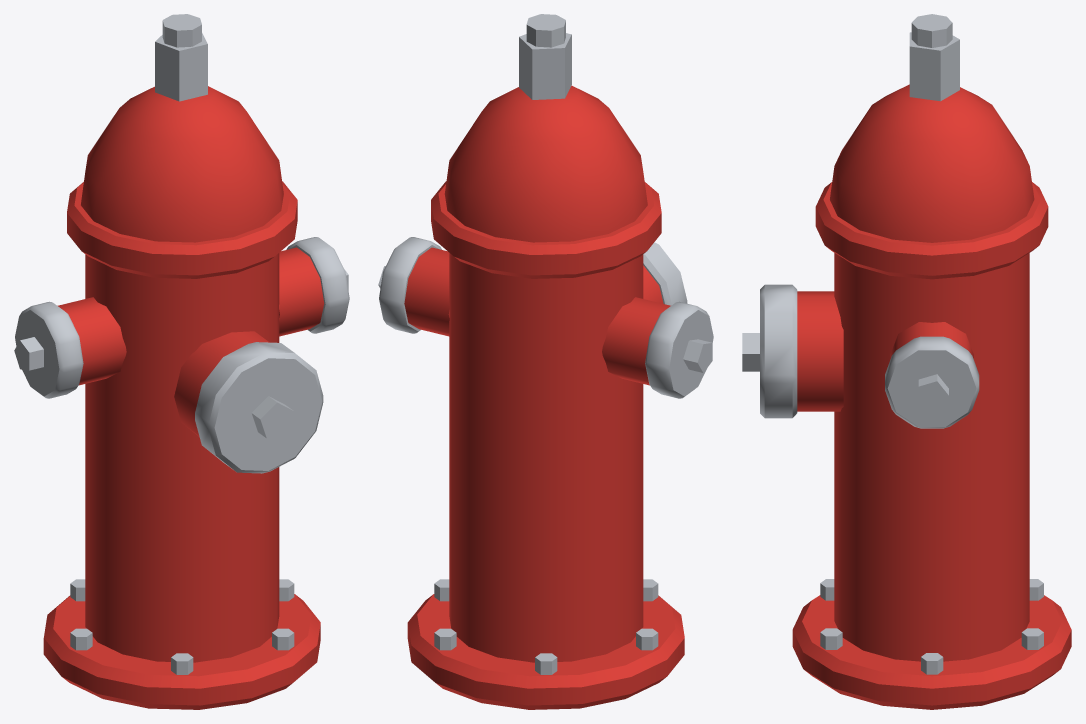
Rendered from fire_hydrant.glb.
The picture shows the model from 3 angles, left to right: view 1: azimuth 30°, elevation 25°; view 2: azimuth 150°, elevation 25°; view 3: azimuth 270°, elevation 25°; orthographic projection.
Parts seen in each view (by area): view 1: body; view 2: body; view 3: body.
Part boxes in pixels (box(x1,y1,x2,y2)): body: box(14, 14, 349, 709); body: box(378, 14, 713, 709); body: box(742, 14, 1071, 709).
Bounding box in the file's own units: 39.6 × 75 × 35.4.
